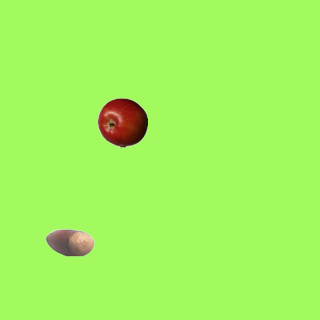Apple Braeburn: (97, 97, 147, 147)
Hazelnut: (44, 217, 94, 267)
